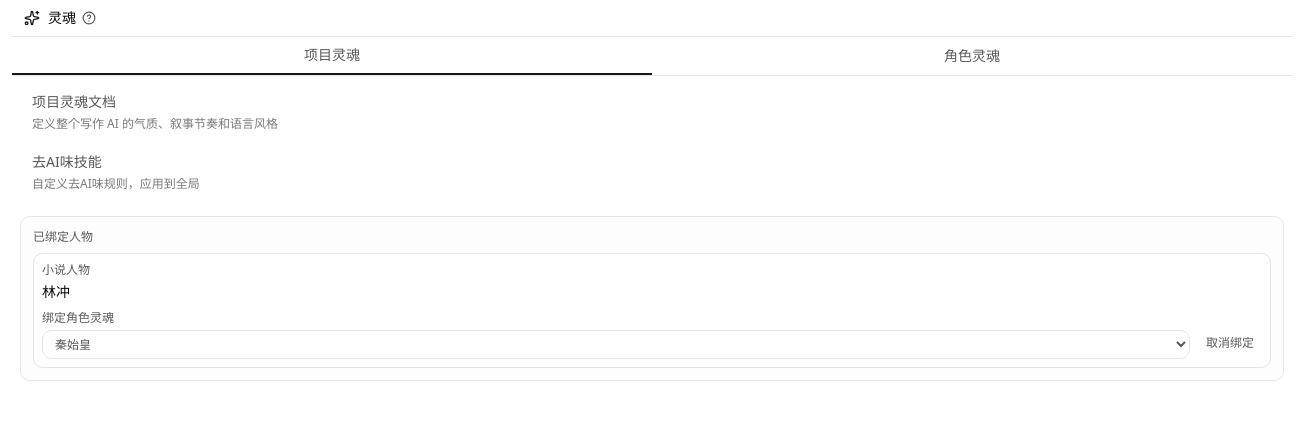
SoulSidebarPanel › 取消绑定成功
Expected: the text "林冲" is shown, [42,282,70,301]
Click the button "取消绑定".
click(1230, 343)  # box [1198,327,1262,359]
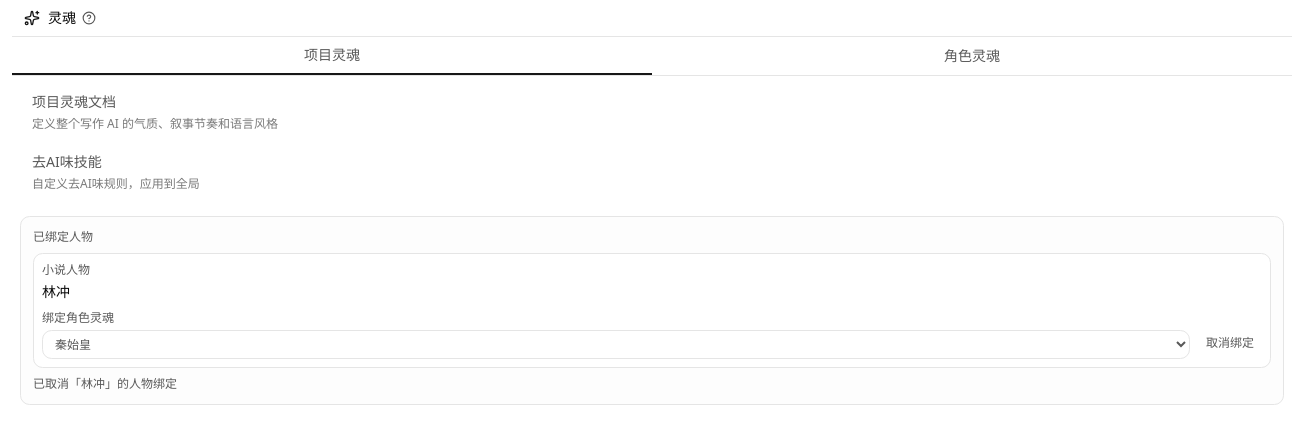
Result: the text "已取消「林冲」的人物绑定" is shown at [33,375,177,392]
